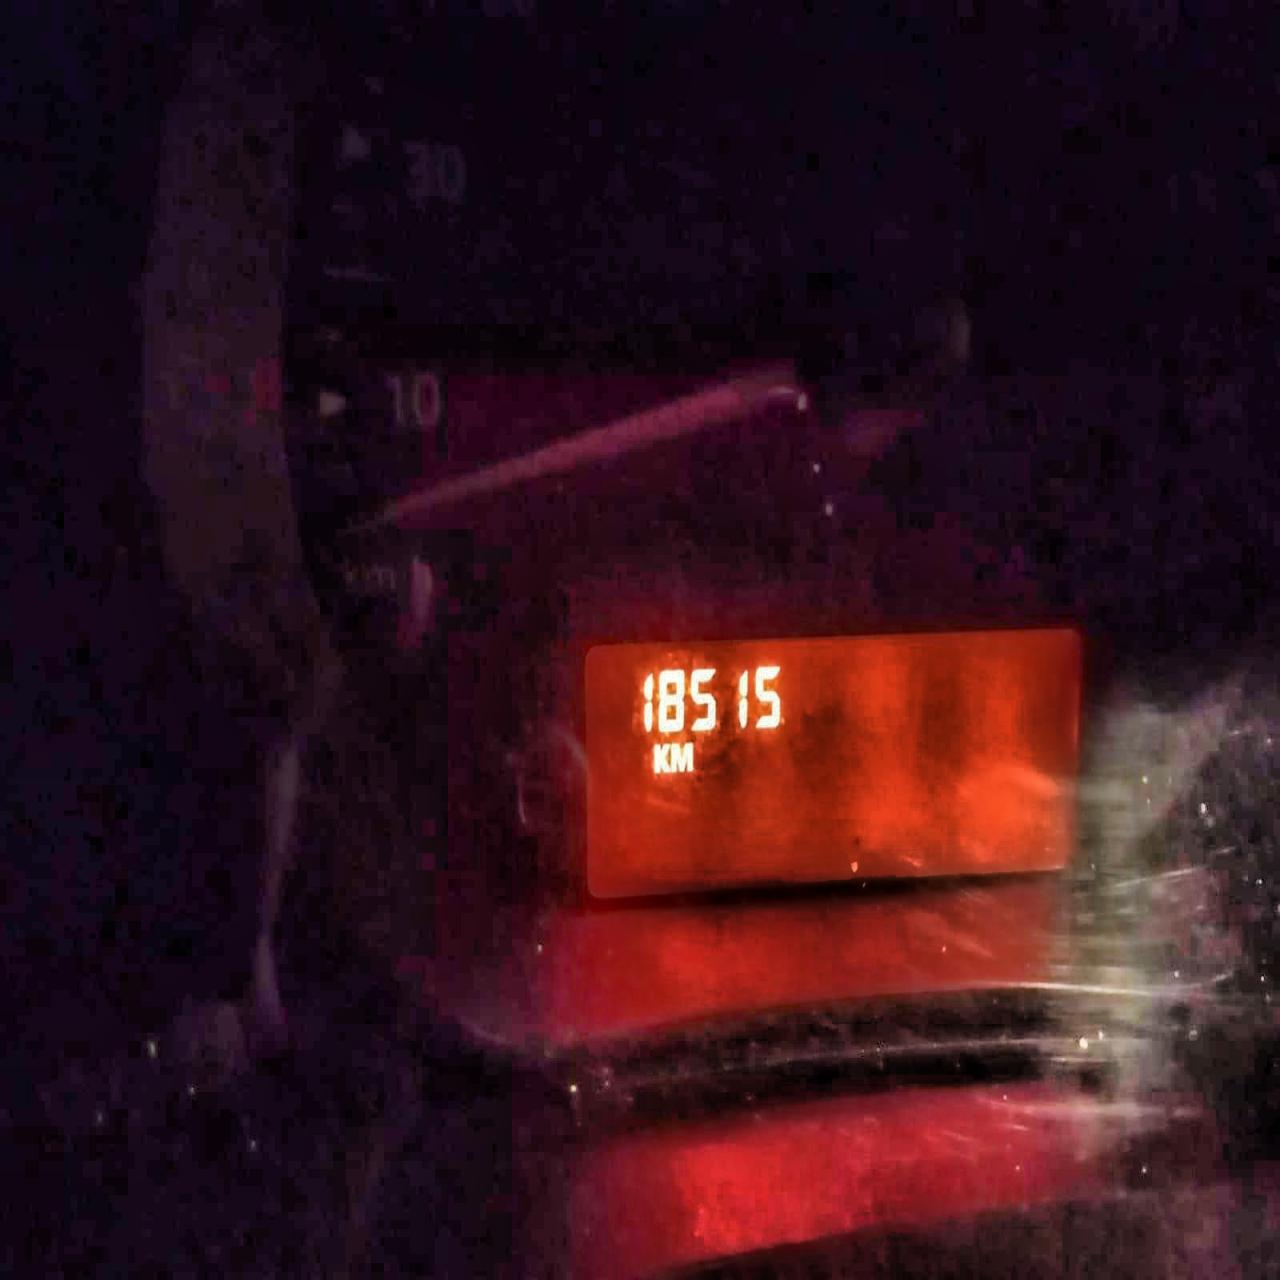1: (734, 665, 749, 729), (639, 669, 654, 733)
5: (688, 665, 717, 733), (753, 663, 781, 729)
8: (656, 666, 686, 733)
X: (669, 740, 694, 775), (651, 740, 669, 777)
odometer: (578, 615, 1087, 912)
